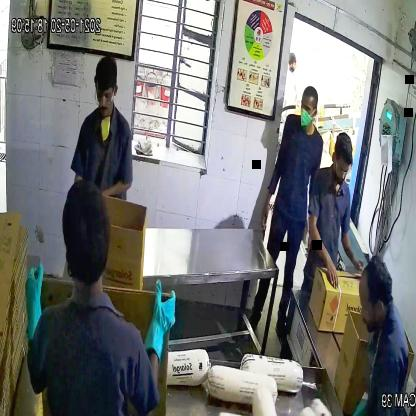goggles: (93, 84, 119, 108)
